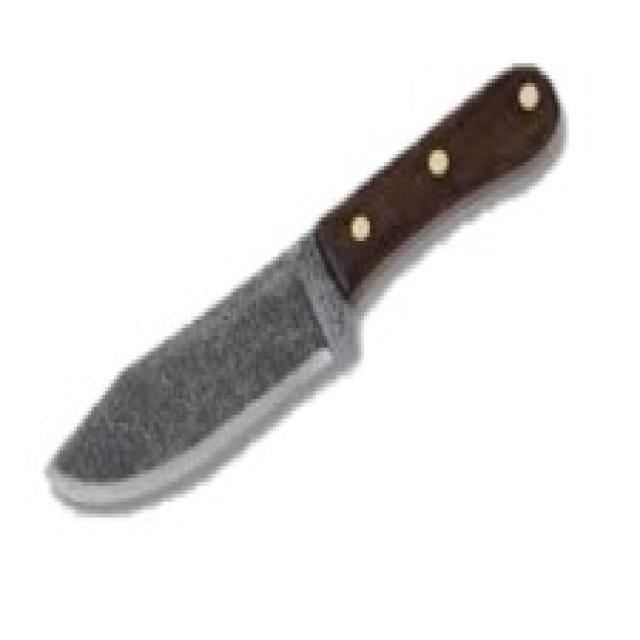knife: (36, 55, 572, 527)
